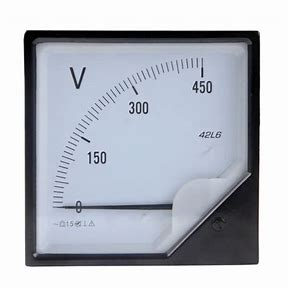pointer: (34, 39, 250, 255)
